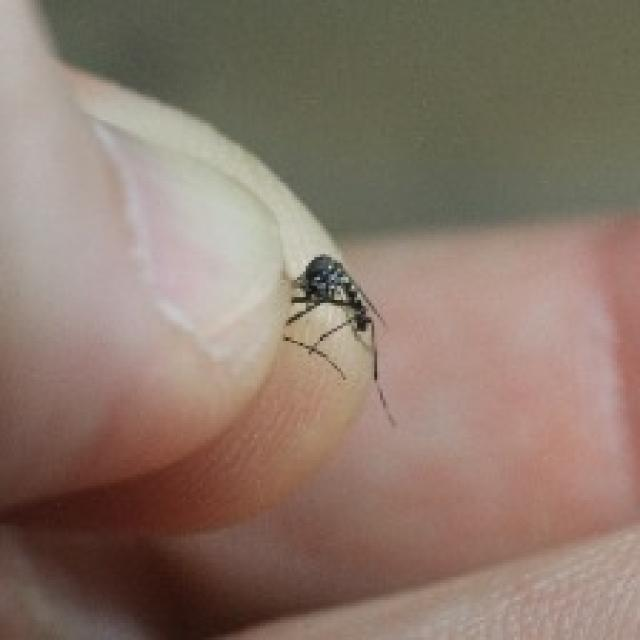aedes: (277, 251, 397, 426)
